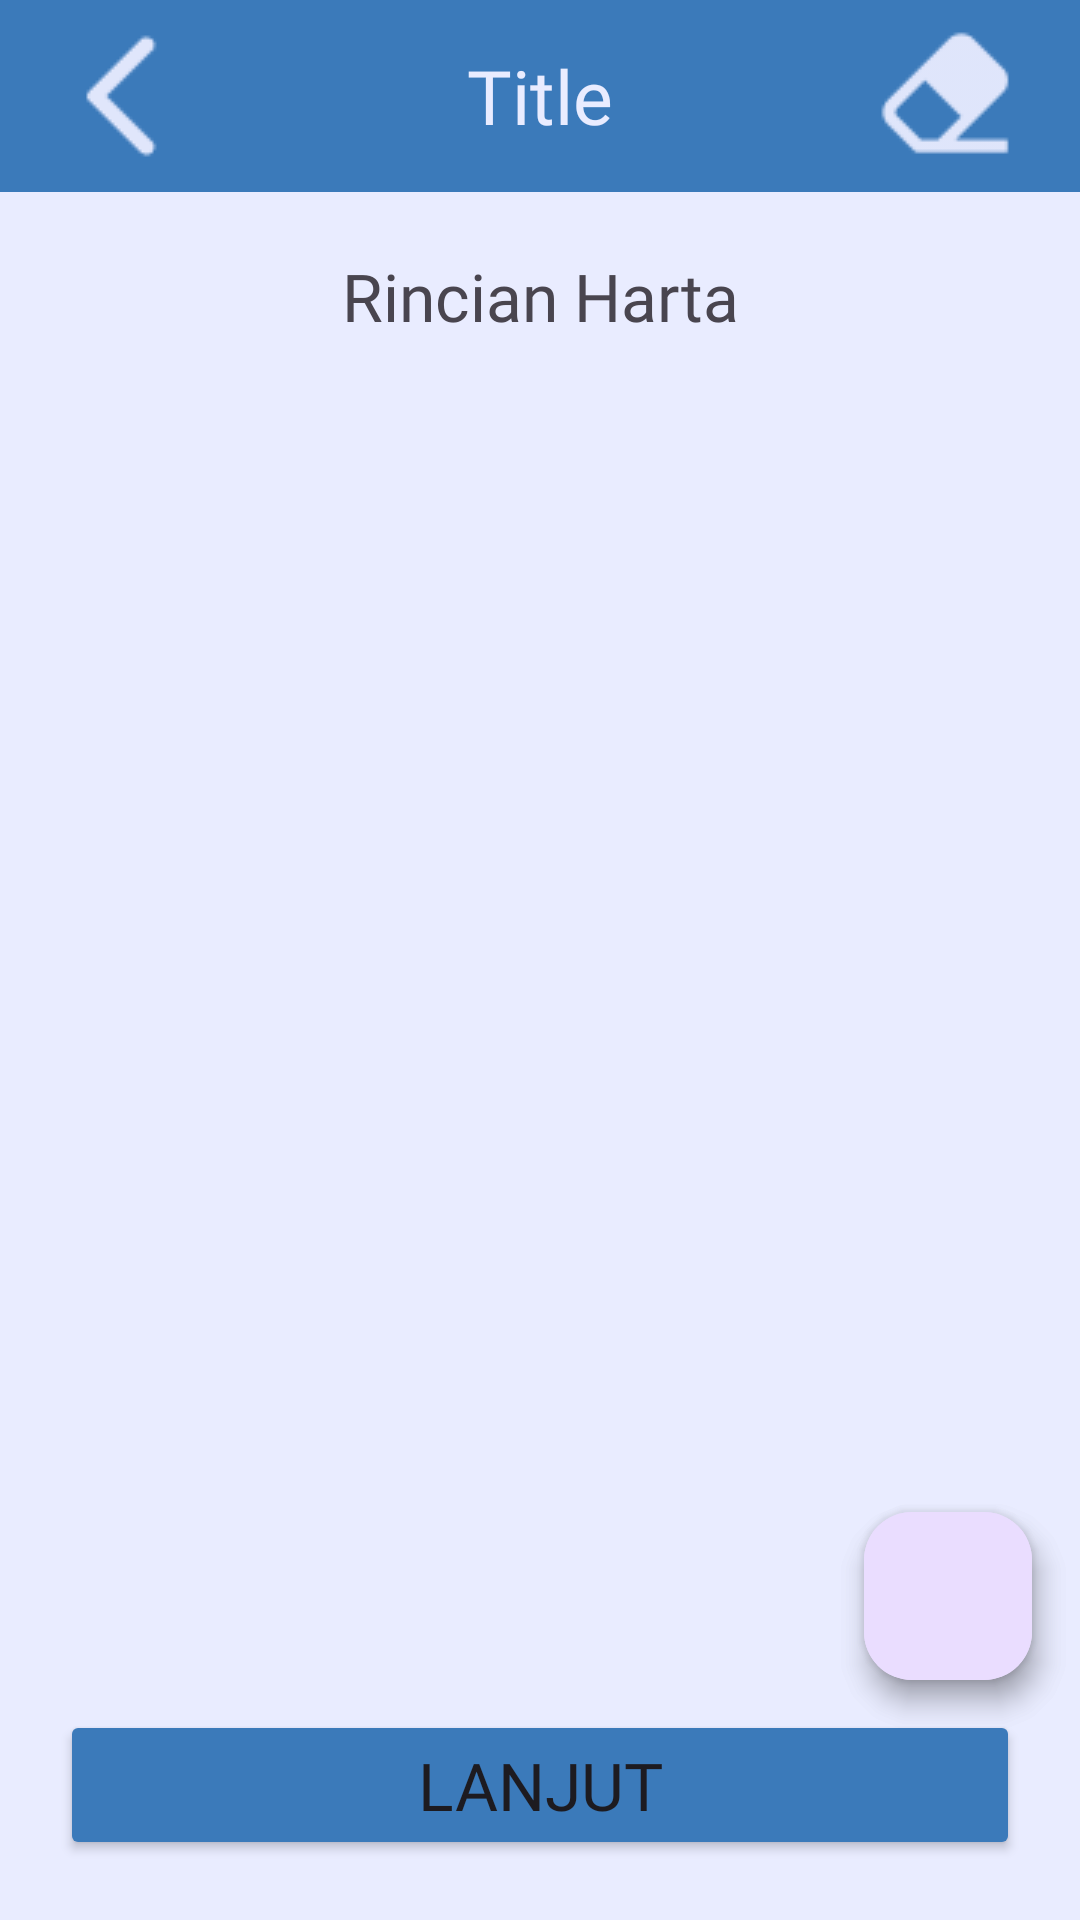

Point at icon controls on the screen. Image size 1080px×1920px, points as [x,y].
back: [121,96]
clear: [945,93]
